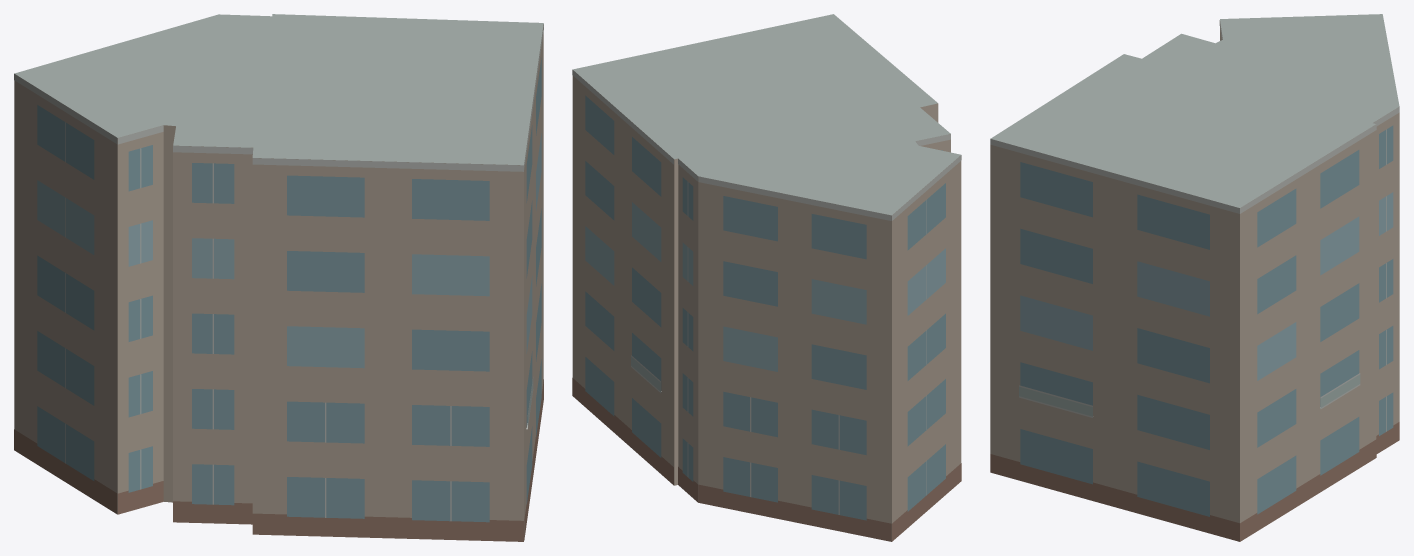
The model's file is survey-upis-32755231.glb.
The picture shows the model from 3 angles, left to right: view 1: azimuth 30°, elevation 25°; view 2: azimuth 150°, elevation 25°; view 3: azimuth 270°, elevation 25°; orthographic projection. The views are drawn at different scales.
Visible parts, largest first — view 1: survey-upis-32755231.tmp; view 2: survey-upis-32755231.tmp; view 3: survey-upis-32755231.tmp.
Boxes of the visible parts, x1=… form: survey-upis-32755231.tmp: x1=14, y1=14, x2=543, y2=541; survey-upis-32755231.tmp: x1=572, y1=14, x2=961, y2=541; survey-upis-32755231.tmp: x1=990, y1=14, x2=1399, y2=541.
Size of the model in its own units: 17.29 by 13.85 by 15.4.
